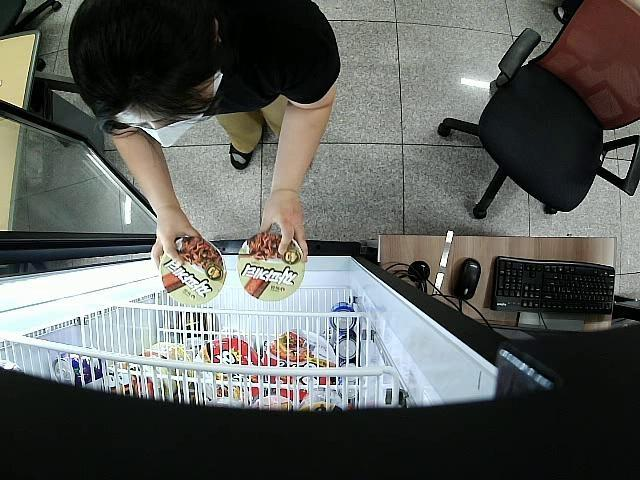03_chapagetti_L: (238, 232, 306, 301), (160, 238, 225, 305)
